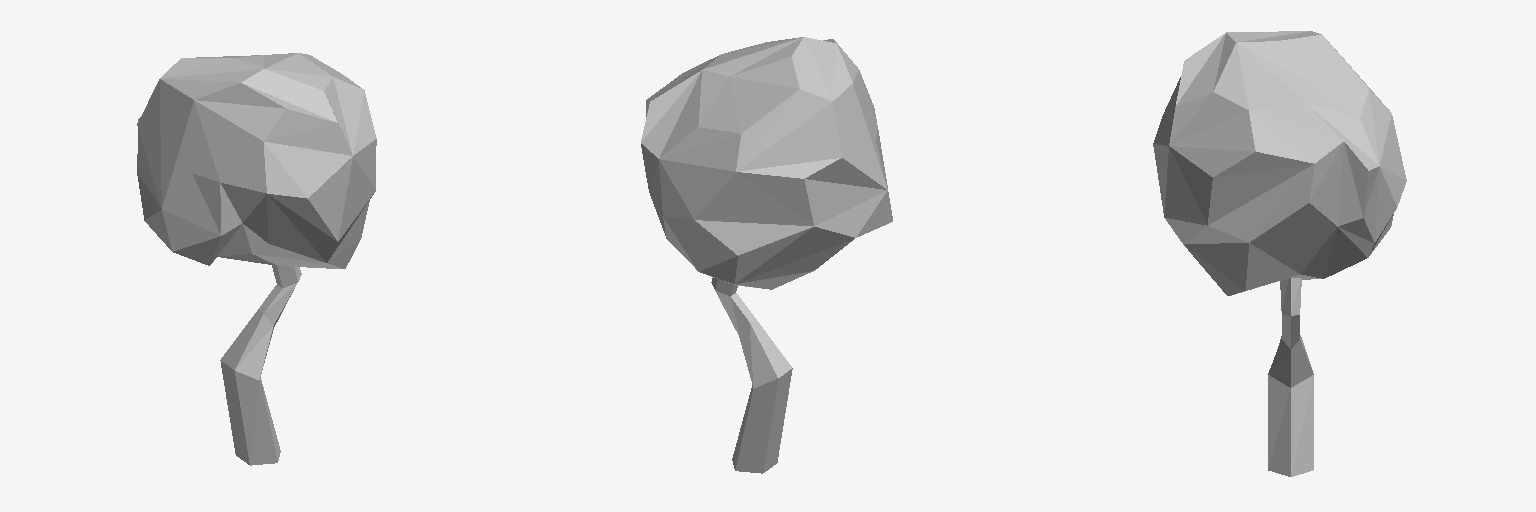
File: tree1.obj
The picture shows the model from 3 angles: view 1: azimuth 30°, elevation 25°; view 2: azimuth 150°, elevation 25°; view 3: azimuth 270°, elevation 25°; orthographic projection.
Visible parts, largest first — view 1: TreeT1_Tree_low; view 2: TreeT1_Tree_low; view 3: TreeT1_Tree_low.
Boxes of the visible parts, x1=… form: TreeT1_Tree_low: x1=137, y1=53, x2=376, y2=465; TreeT1_Tree_low: x1=641, y1=37, x2=892, y2=473; TreeT1_Tree_low: x1=1153, y1=31, x2=1406, y2=476.
Size of the model in its own units: 2.2 by 4.07 by 2.26.